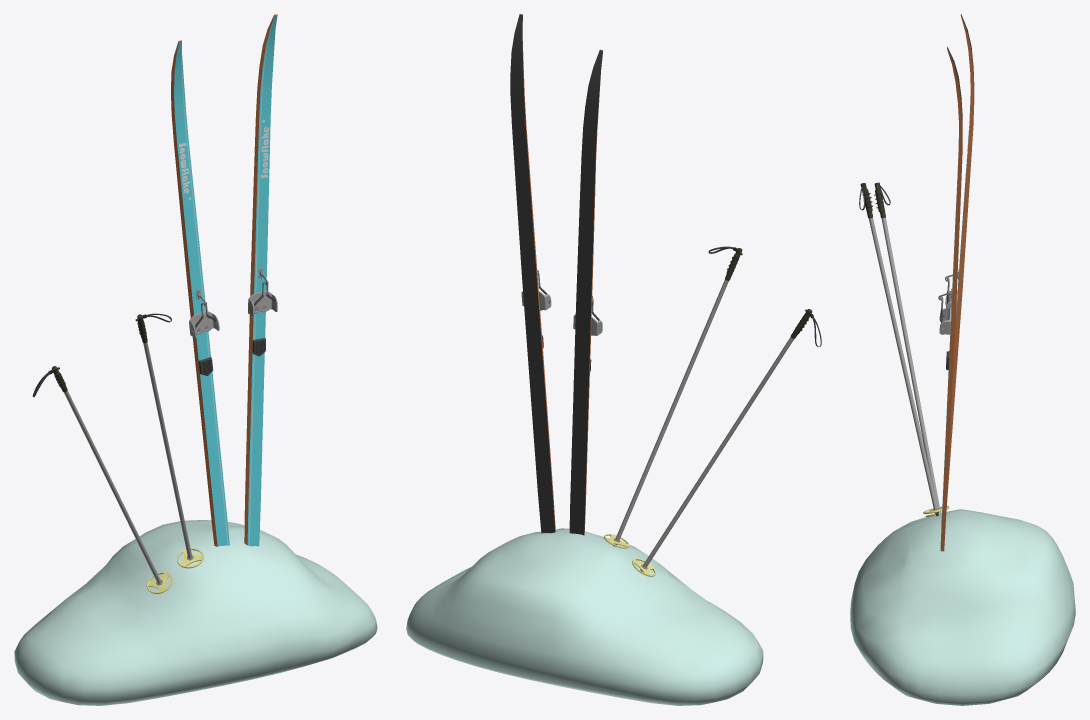
Rendered from ski1.glb.
3 renders of one model, left to right at view 1: azimuth 30°, elevation 25°; view 2: azimuth 150°, elevation 25°; view 3: azimuth 270°, elevation 25°, orthographic. The views are drawn at different scales.
Visible parts, largest first — view 1: Cube.016, Cube.009, Cube, Cylinder.024, Cylinder.050; view 2: Cube.016, Cube.009, Cube, Cylinder.024, Cylinder.050; view 3: Cube.016, Cube.009, Cube, Cylinder.024, Cylinder.050.
Part boxes in pixels (x1,y1,x2,y2): Cube.016: (14,520,377,705); Cube.009: (244,14,277,546); Cube: (171,40,229,546); Cylinder.024: (143,342,192,558); Cylinder.050: (64,390,161,583); Cube.016: (406,528,763,705); Cube.009: (510,14,555,533); Cube: (569,49,602,535); Cylinder.024: (615,279,728,540); Cylinder.050: (643,336,793,567); Cube.016: (850,509,1075,705); Cube.009: (940,47,962,551); Cube: (941,14,974,525); Cylinder.024: (868,217,937,509); Cylinder.050: (881,217,940,512).
Size of the model in its own units: 7.8 by 13.04 by 4.29.
